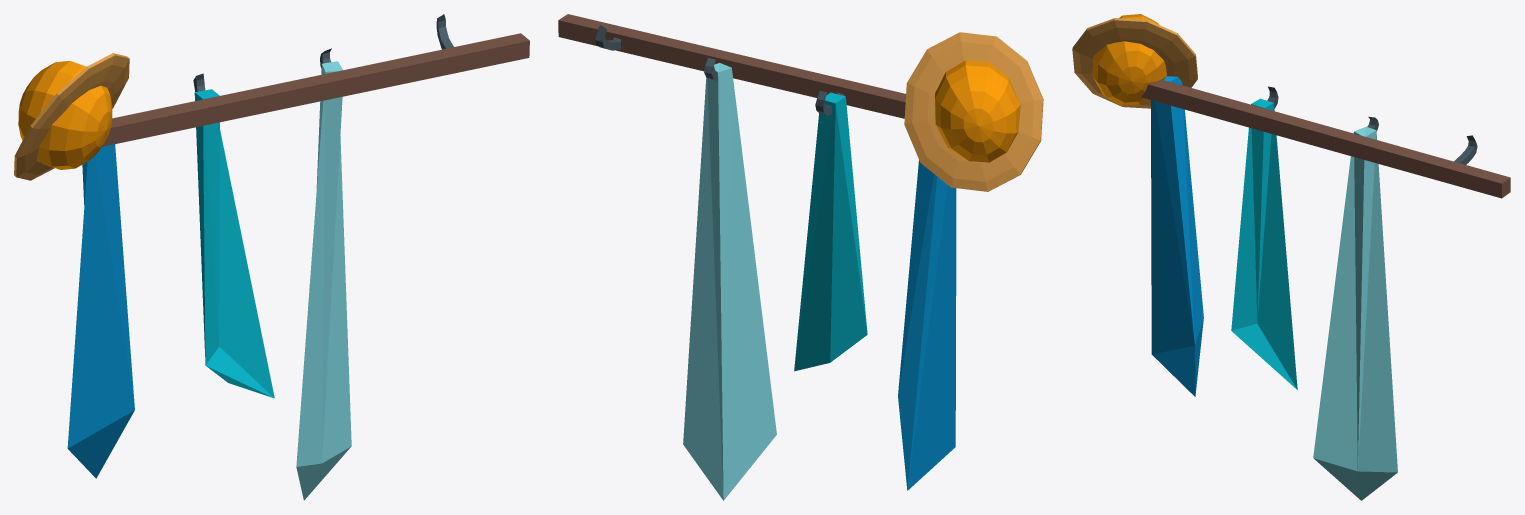
The model's file is TheBedroomHanger.glb.
3 views of the same model, side by side, from view 1: azimuth 30°, elevation 25°; view 2: azimuth 150°, elevation 25°; view 3: azimuth 330°, elevation 25° (orthographic). The views are drawn at different scales.
Visible parts, largest first — view 1: group793346818; view 2: group793346818; view 3: group793346818.
Part boxes in pixels (left/top/right/bottom): group793346818: left=14, top=14, right=529, bottom=500; group793346818: left=558, top=14, right=1043, bottom=500; group793346818: left=1072, top=14, right=1510, bottom=500.
Bounding box in the file's own units: 0.9176 × 0.9067 × 0.1465.
Materials: 1 (1 with a texture image).
